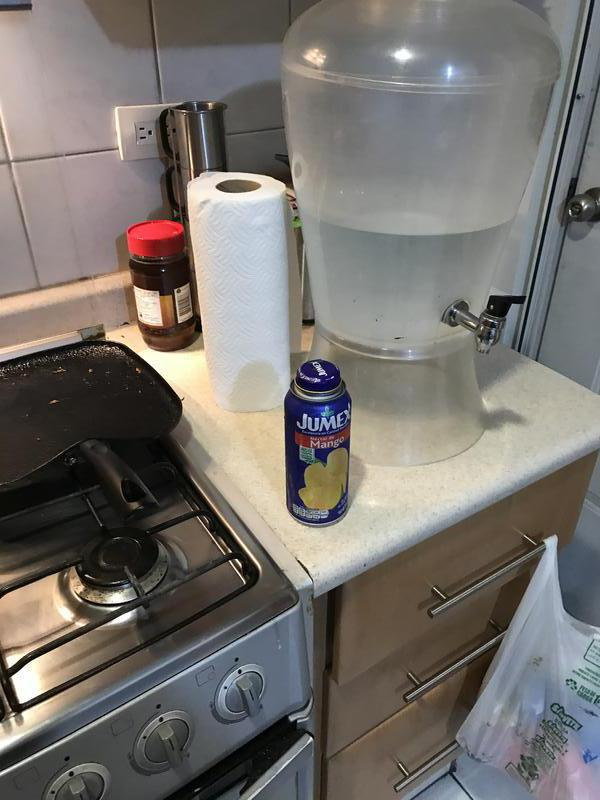jugo_jumex: (282, 359, 355, 529)
